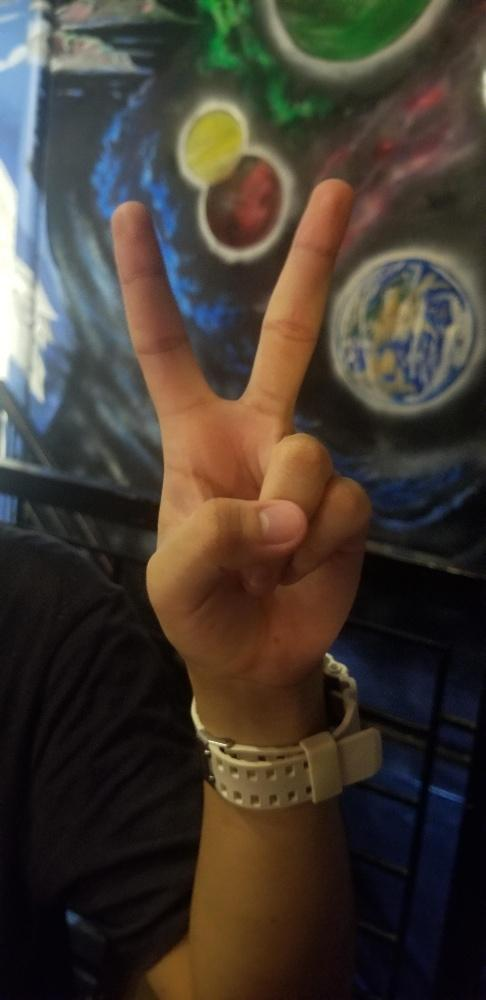v: (109, 180, 372, 669)
